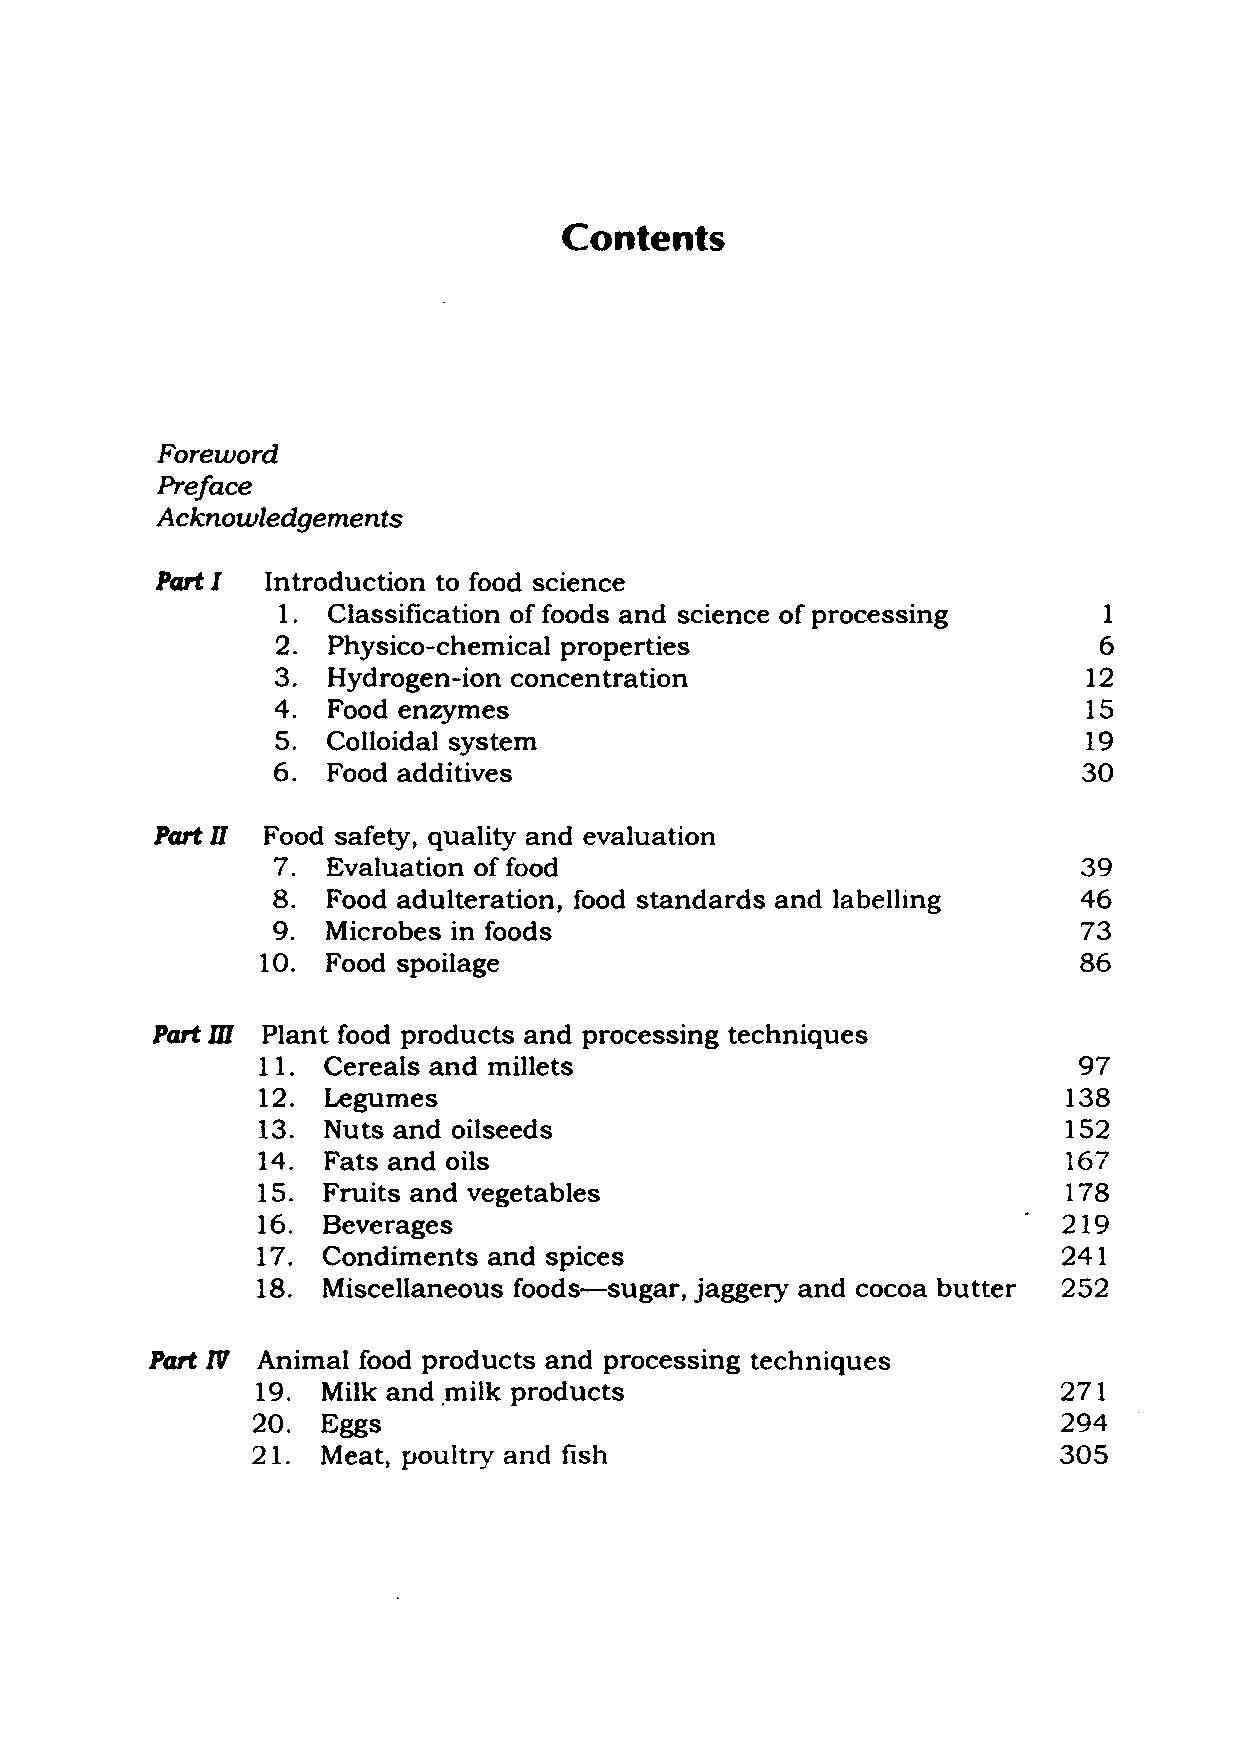TOC_chapter: (145, 1346, 892, 1376), (254, 1275, 1019, 1303), (271, 599, 949, 629), (149, 1021, 867, 1049), (270, 884, 945, 913), (150, 820, 715, 851), (154, 568, 629, 595), (271, 633, 690, 663), (271, 666, 690, 692), (258, 1178, 605, 1209), (256, 1244, 625, 1271), (250, 1443, 609, 1469), (254, 1381, 627, 1406), (256, 1053, 576, 1079), (152, 505, 405, 535), (263, 917, 553, 943), (271, 695, 509, 726), (258, 949, 503, 978), (264, 854, 564, 878), (256, 1118, 556, 1142), (272, 729, 538, 754), (272, 760, 511, 788), (255, 1146, 491, 1172), (256, 1210, 454, 1240), (259, 1084, 439, 1113), (252, 1410, 382, 1439), (156, 440, 282, 467), (157, 472, 254, 501)
TOC_pagenumber: (1059, 1275, 1110, 1300), (1057, 1378, 1106, 1404), (1063, 1180, 1113, 1202), (1060, 1212, 1110, 1235), (1064, 1083, 1108, 1108), (1057, 1443, 1108, 1464), (1063, 1117, 1110, 1139), (1059, 1410, 1106, 1433), (1066, 1147, 1111, 1170), (1060, 1245, 1106, 1267), (1082, 662, 1117, 688), (1078, 950, 1113, 976), (1079, 887, 1113, 913), (1082, 855, 1113, 882), (1080, 760, 1113, 785), (1076, 1052, 1108, 1078), (1079, 921, 1113, 945), (1084, 727, 1113, 756), (1086, 697, 1113, 721), (1100, 599, 1121, 627), (1098, 632, 1117, 654)
chapter: (557, 217, 727, 255)
